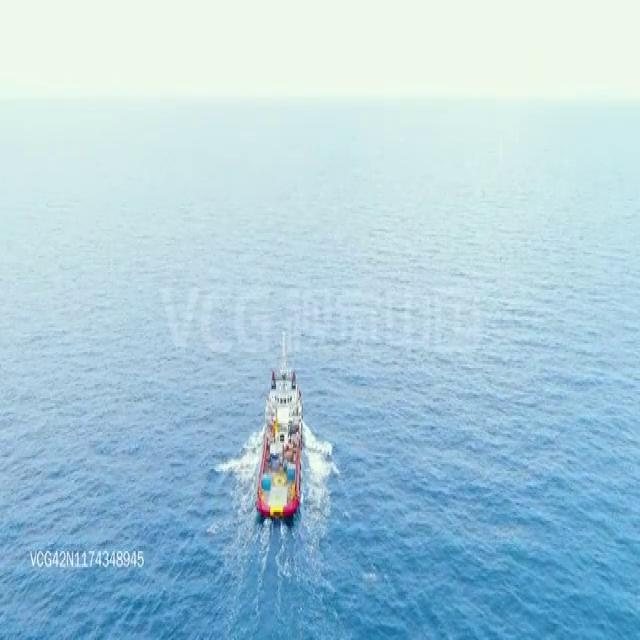fishing boat: (251, 324, 301, 518)
